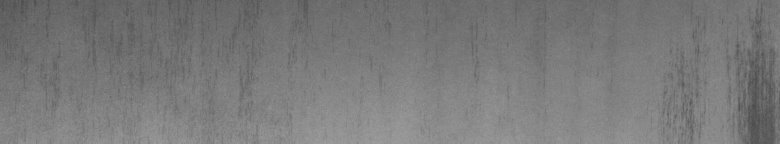ka: (664, 34, 776, 136)
